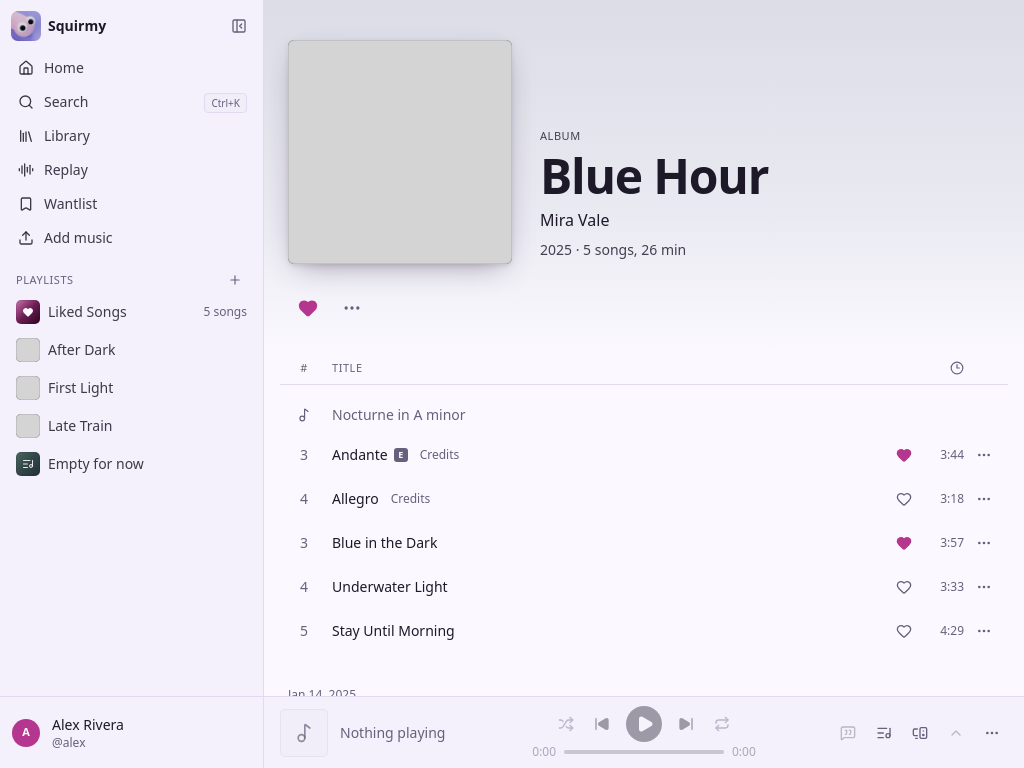
Test: album page › shows track credits and shared work headings without changing playback order
Later steps or results of the test are not shown.
Expected: the number of headings "Nocturne in A minor" is 1, [332, 405, 466, 425]
Expected: the text "3" next to "Andante" is shown, [300, 445, 308, 464]
Click the button "Credits" in the row of "Andante": (440, 455) [414, 443, 465, 467]
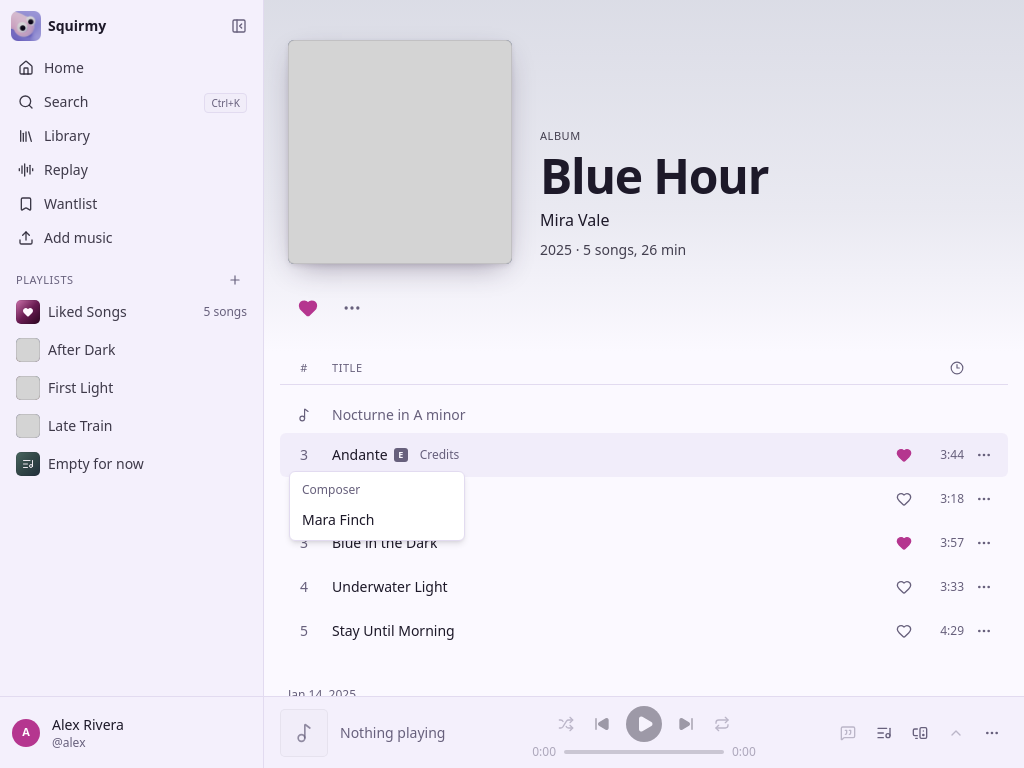
Now the menu item "Mara Finch" is shown, box [302, 510, 374, 529]
Now the text "Composer" is shown, box [302, 481, 360, 498]
Press Escape
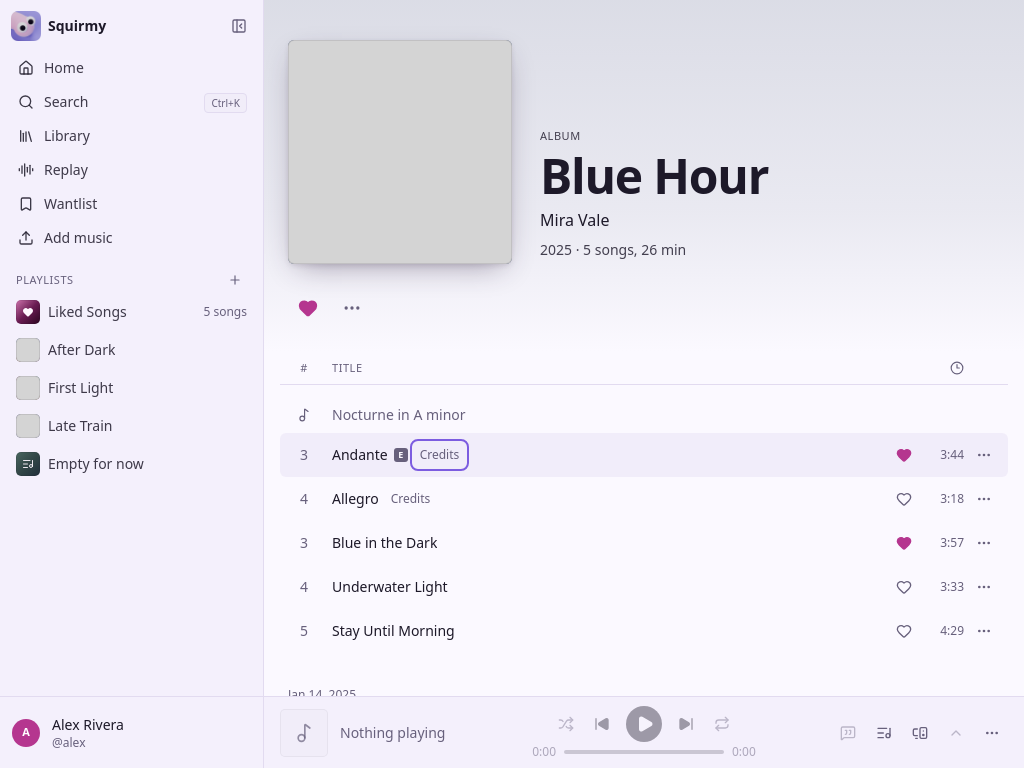
Click the button named "More options for Night Swimming": (984, 455) [968, 439, 1000, 471]
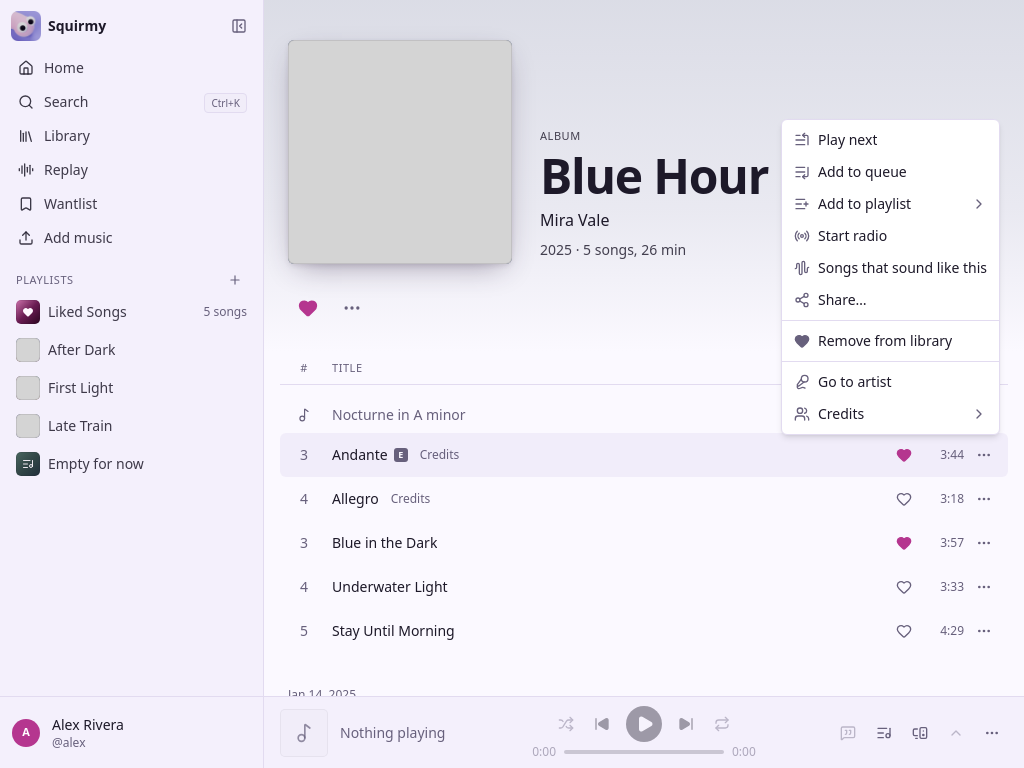
Now the menu item "Credits" is shown, box [794, 404, 987, 423]
